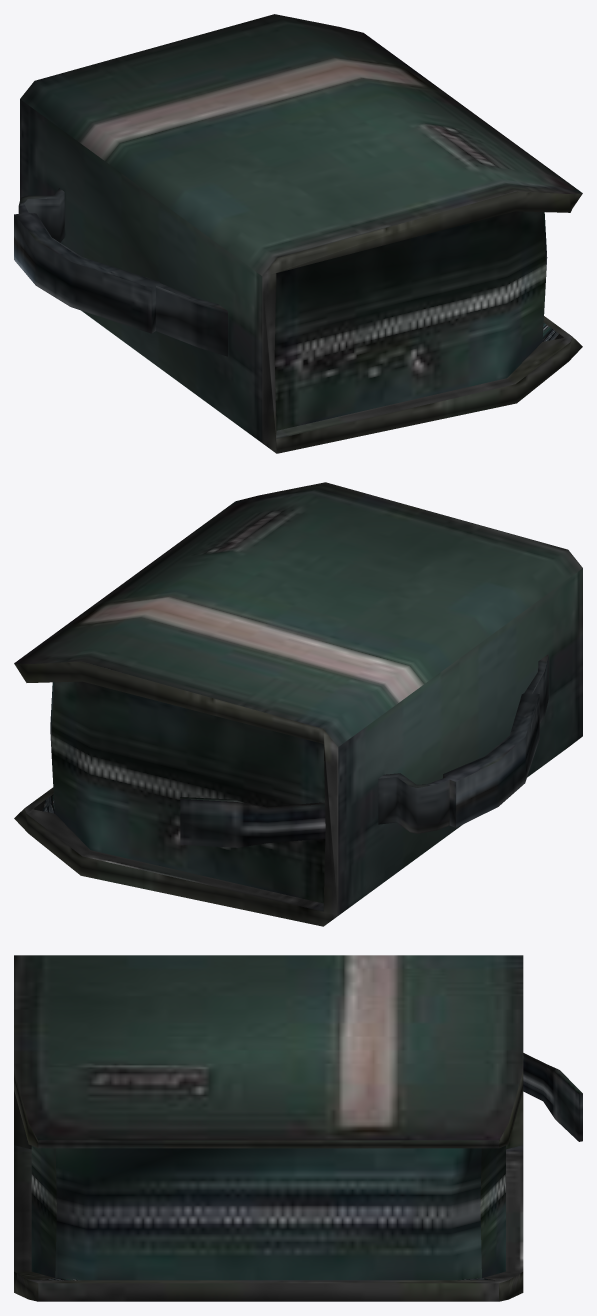
The model's file is cd_holder-1.FBX.
The picture shows the model from 3 angles, top to bottom: view 1: azimuth 30°, elevation 25°; view 2: azimuth 150°, elevation 25°; view 3: azimuth 270°, elevation 25°; orthographic projection. The views are drawn at different scales.
Parts seen in each view (by area): view 1: Line03; view 2: Line03; view 3: Line03.
Part boxes in pixels (x1,y1,x2,y2): Line03: (14,14,582,453); Line03: (14,482,582,926); Line03: (14,955,582,1301).
Bounding box in the file's own units: 12.02 × 6.03 × 13.95.
